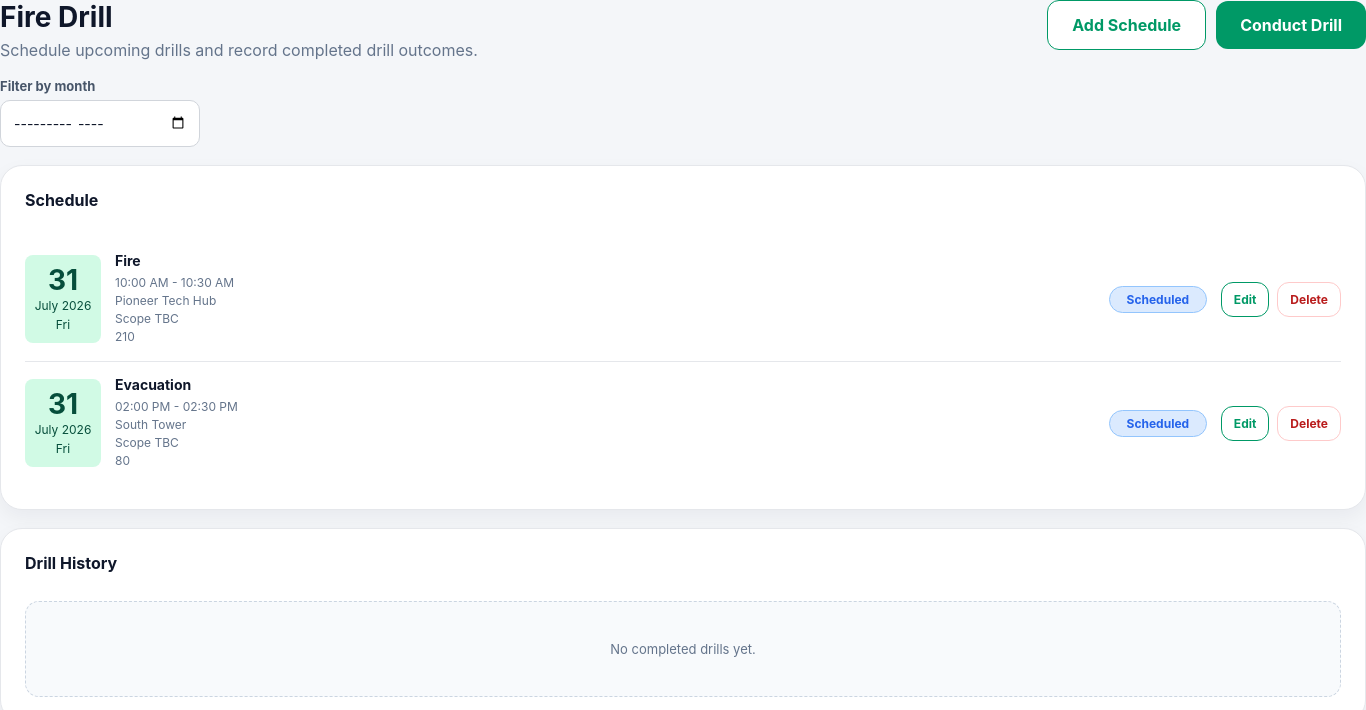
conducts the automatically selected scheduled drill without an available-drill selector
Click the button "Conduct Drill" at (1291, 25), box [1216,1,1365,49]
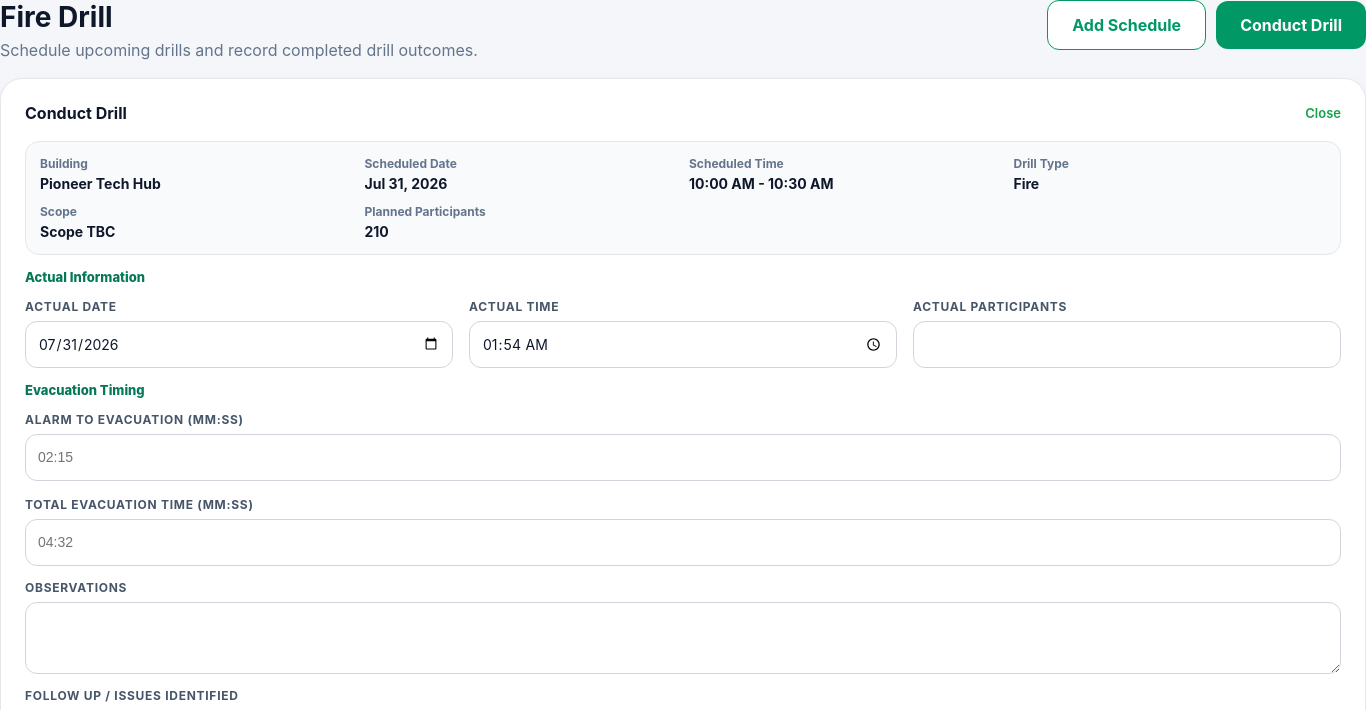
Result: the heading "Conduct Drill" is shown at [25,103,127,123]
Result: the text "Pioneer Tech Hub" is shown at [40,175,161,192]
Result: the text "Planned Participants" is shown at [364,204,486,219]
